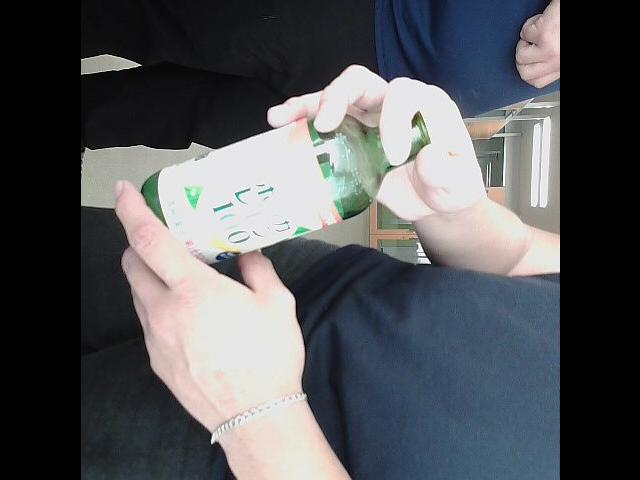Lemon_sapporo: (142, 78, 464, 268)
